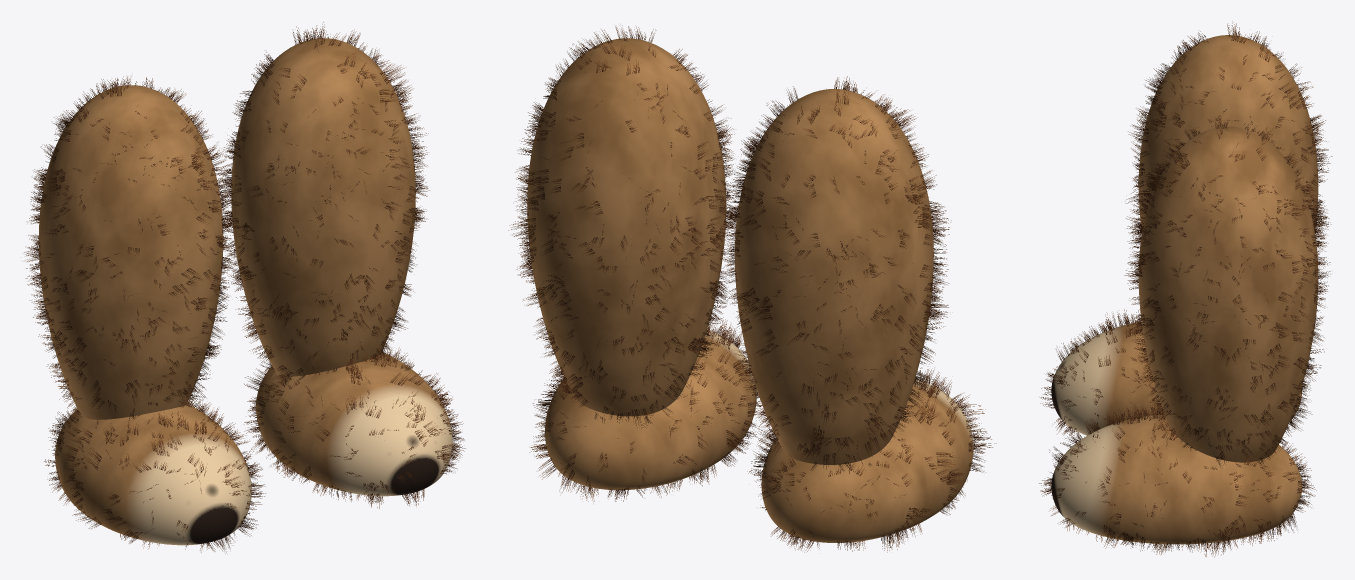
Rendered from TeddyBear_Legs.fbx.
3 views of the same model, side by side, from view 1: azimuth 30°, elevation 25°; view 2: azimuth 150°, elevation 25°; view 3: azimuth 270°, elevation 25° (orthographic). The views are drawn at different scales.
Visible parts, largest first — view 1: Legs, Legs_Fur; view 2: Legs, Legs_Fur; view 3: Legs, Legs_Fur.
Boxes of the visible parts, <box> form: Legs: <box>38,38,452,545</box>; Legs_Fur: <box>24,22,465,552</box>; Legs: <box>527,38,973,542</box>; Legs_Fur: <box>508,25,996,552</box>; Legs: <box>1051,35,1318,544</box>; Legs_Fur: <box>1039,22,1332,557</box>.
Size of the model in its own units: 0.4692 by 0.5089 by 0.331.
Materials: 2 (2 with a texture image).
